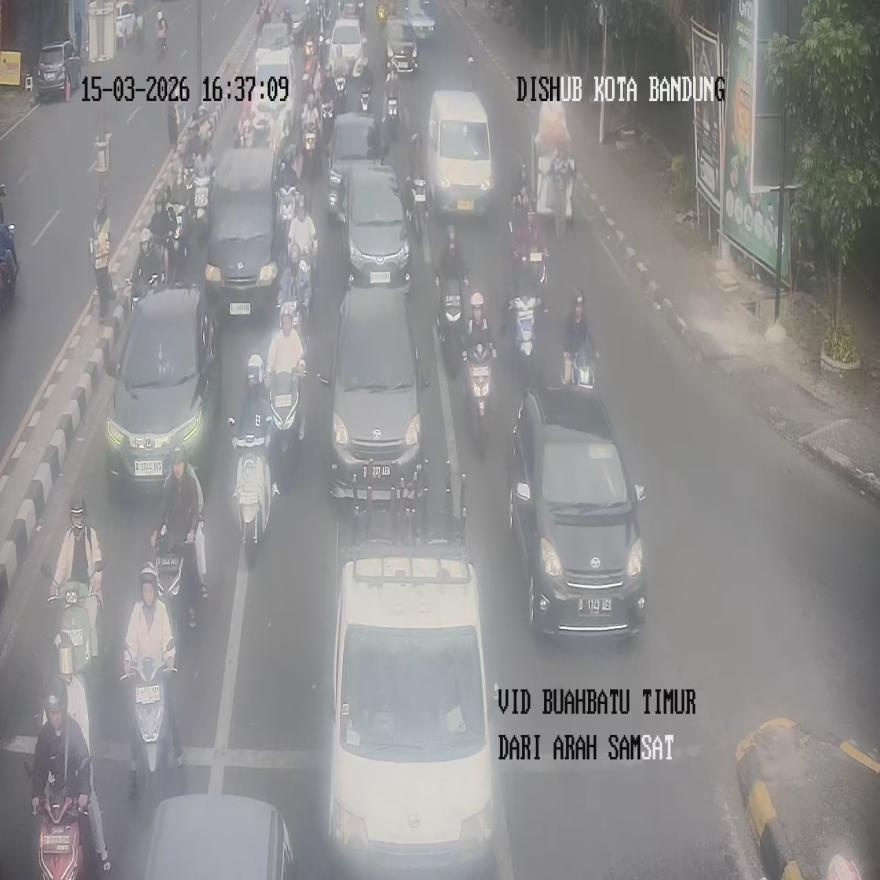Motor: (326, 466, 495, 875), (508, 386, 646, 640), (320, 284, 428, 505), (104, 281, 219, 488), (202, 146, 280, 315), (144, 793, 296, 878), (340, 161, 414, 292), (427, 90, 494, 220)
Truk: (123, 642, 180, 807), (43, 561, 103, 682), (231, 416, 276, 566), (36, 770, 86, 879), (462, 346, 491, 457), (440, 275, 466, 374), (151, 526, 183, 602), (0, 184, 19, 310), (512, 296, 536, 382), (277, 184, 298, 255), (564, 346, 596, 391), (193, 172, 211, 237), (302, 124, 317, 178), (320, 95, 334, 146), (302, 37, 316, 83), (385, 94, 399, 139), (156, 11, 167, 54), (359, 84, 370, 113)
